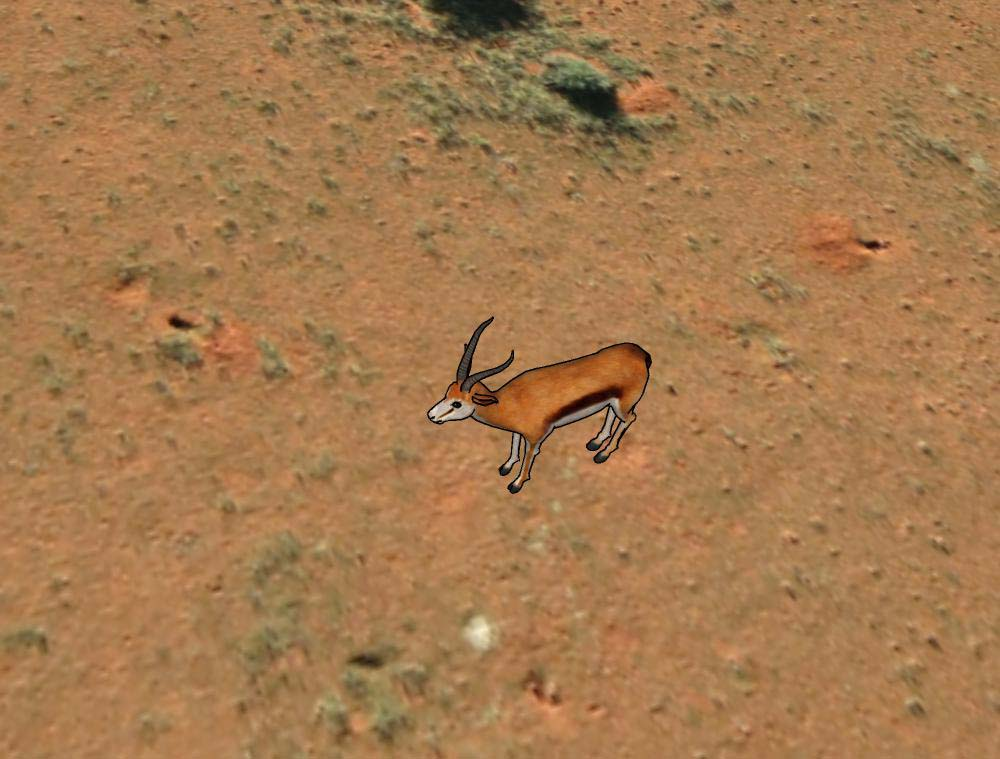springbok: (426, 318, 656, 501)
